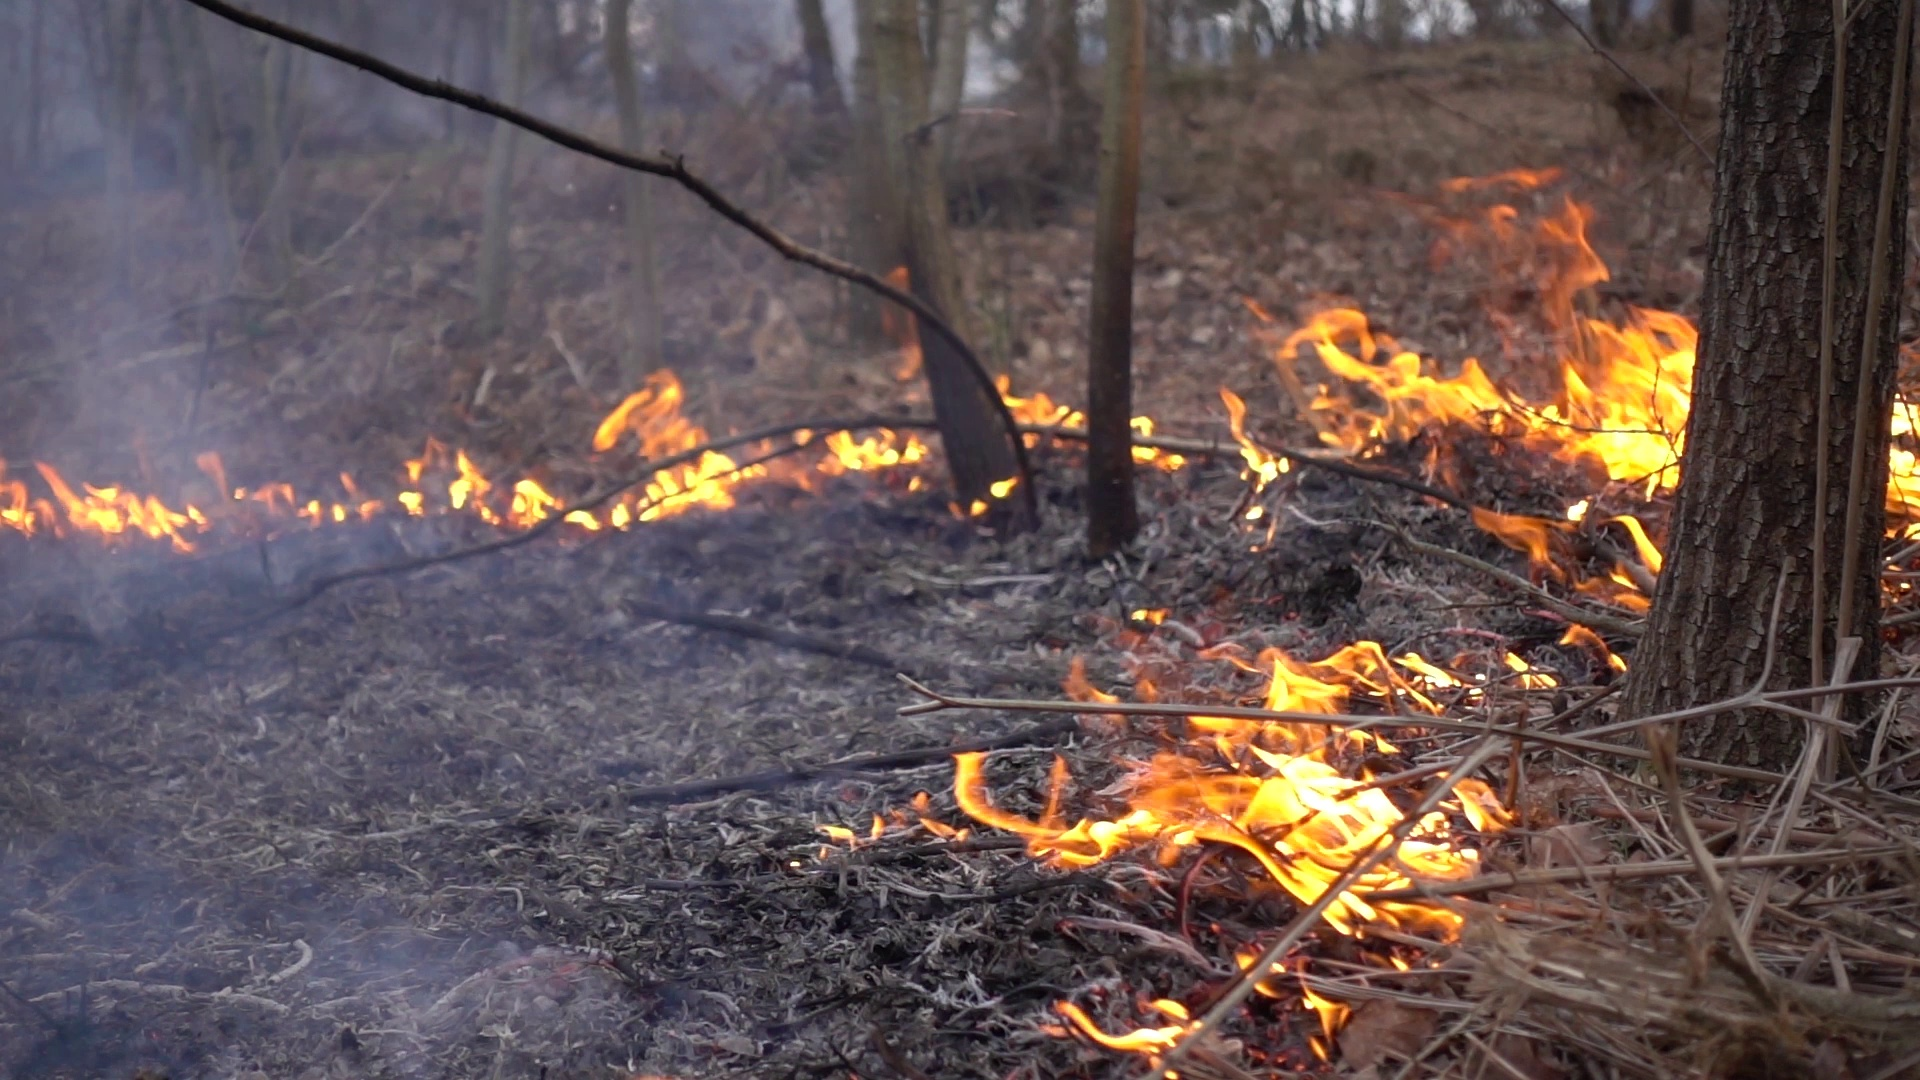fire: (960, 645, 1510, 1050), (1226, 280, 1693, 574), (585, 380, 735, 521), (1, 483, 196, 556), (390, 448, 560, 527), (1884, 396, 1920, 530), (818, 429, 922, 473), (1006, 393, 1084, 450), (1131, 419, 1182, 473)
